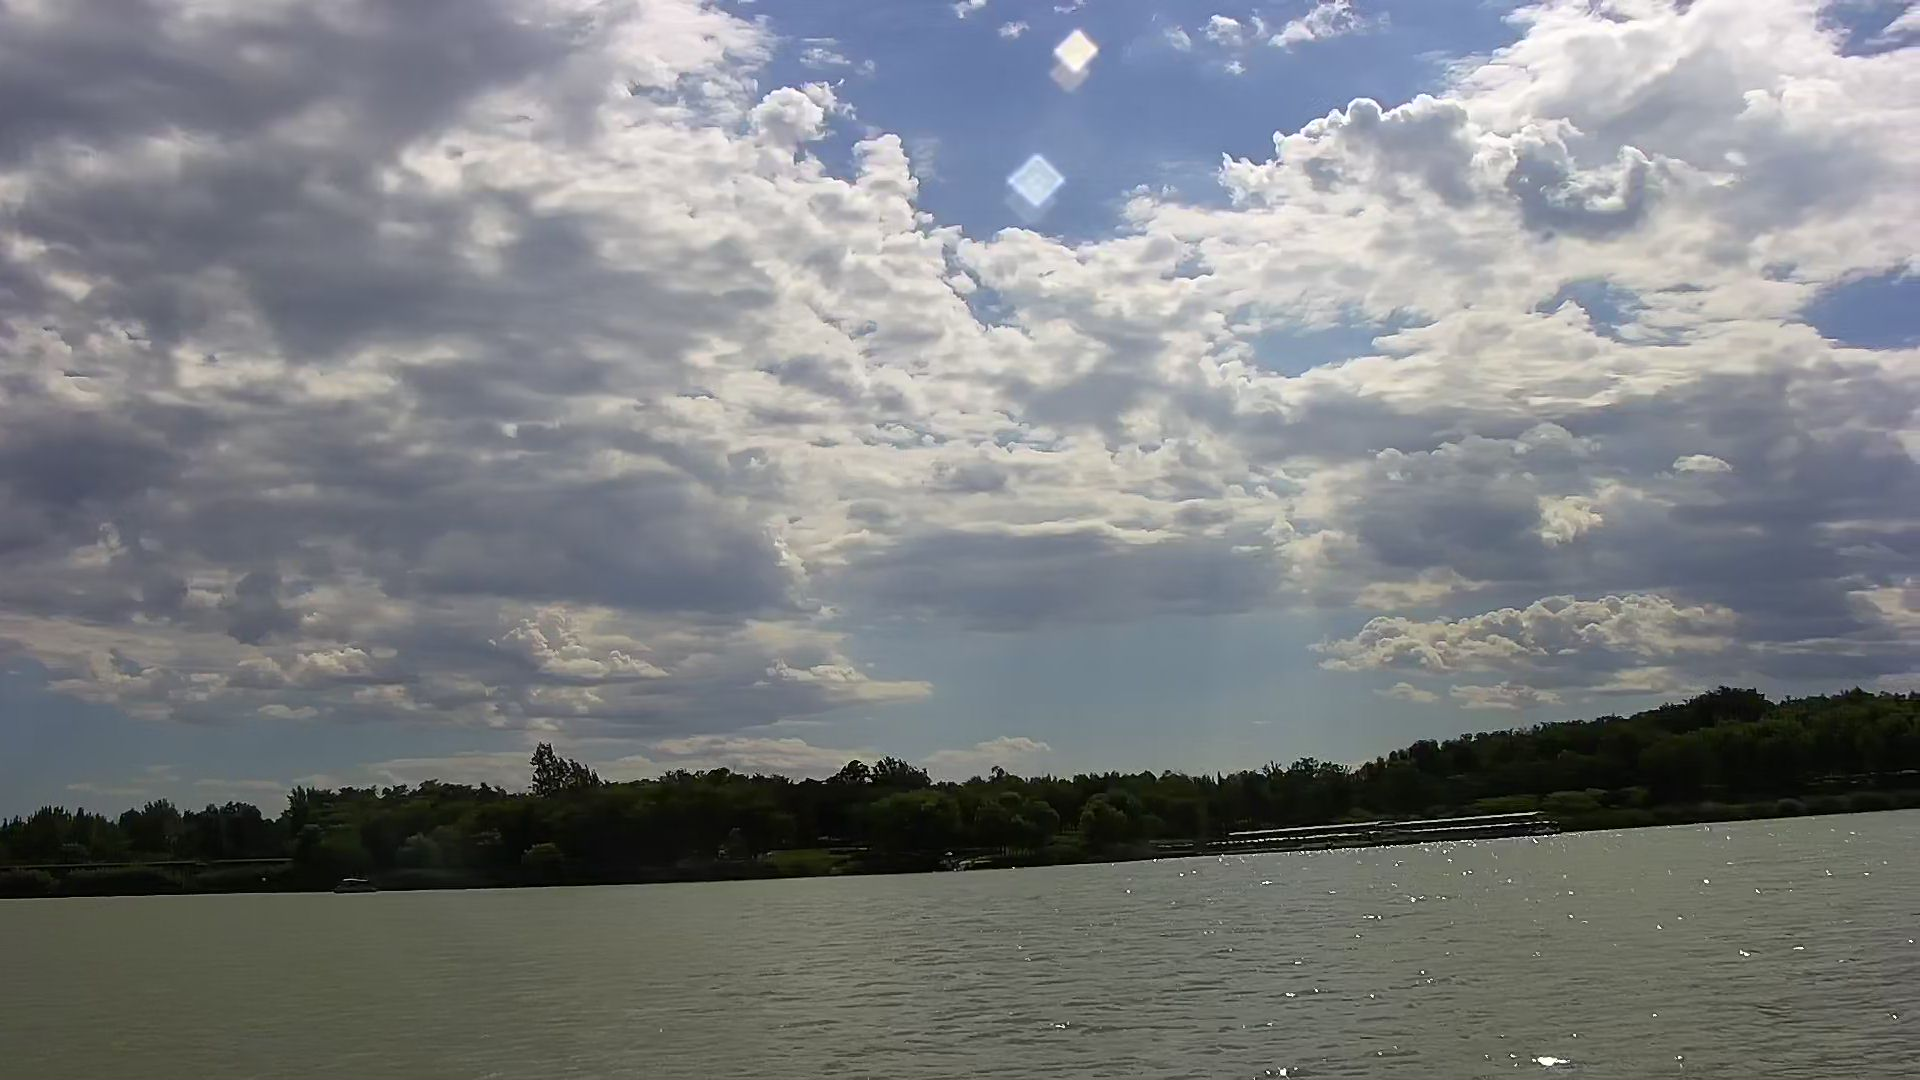harbor: (1209, 804, 1571, 856)
